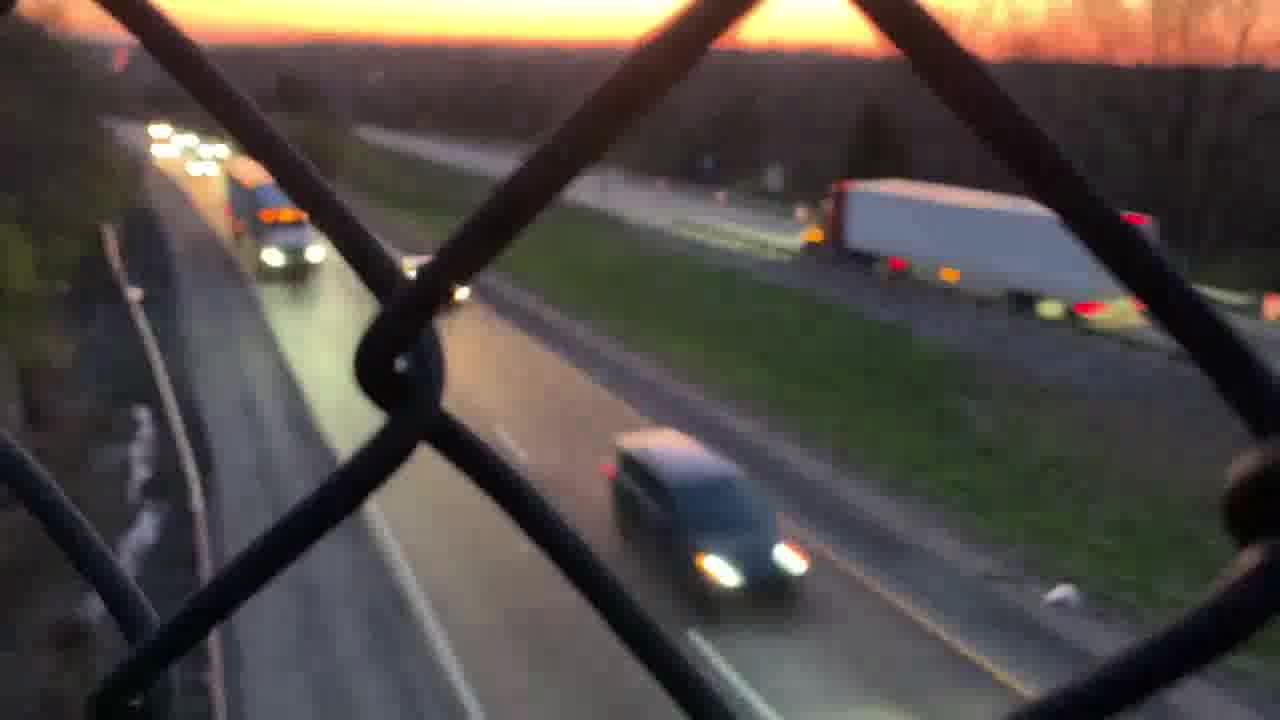heavyTruck: (799, 170, 1169, 322)
largeCar: (604, 428, 819, 602)
